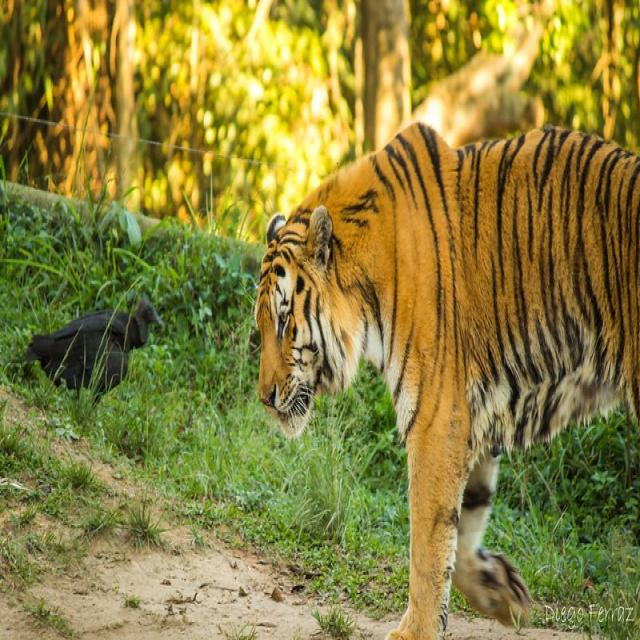Tiger: (251, 119, 638, 639)
